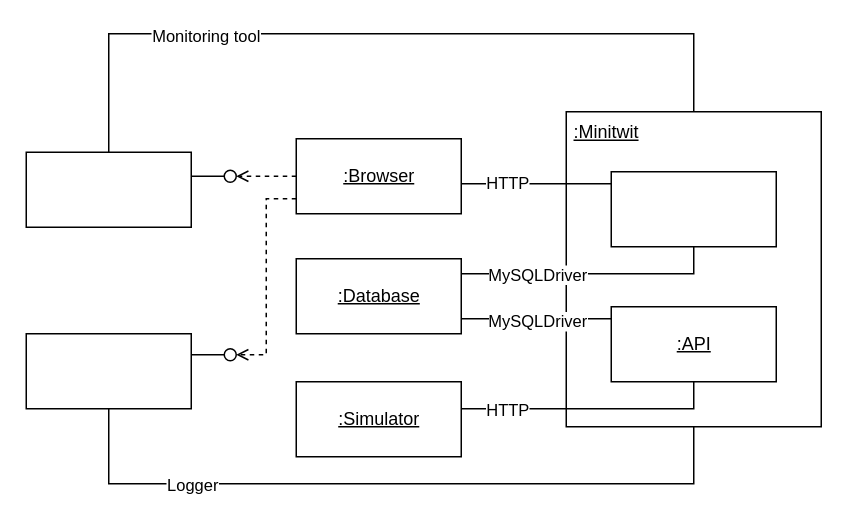
Some shapes in this 848 by 519 pixel diagram are drawn without their labels. Each missing label, with the centre of its shape:
":Logging Dashboard" goes at (x=108, y=370).
":Metrics Dashboard" goes at (x=108, y=189).
":Web Application" goes at (x=693, y=208).
